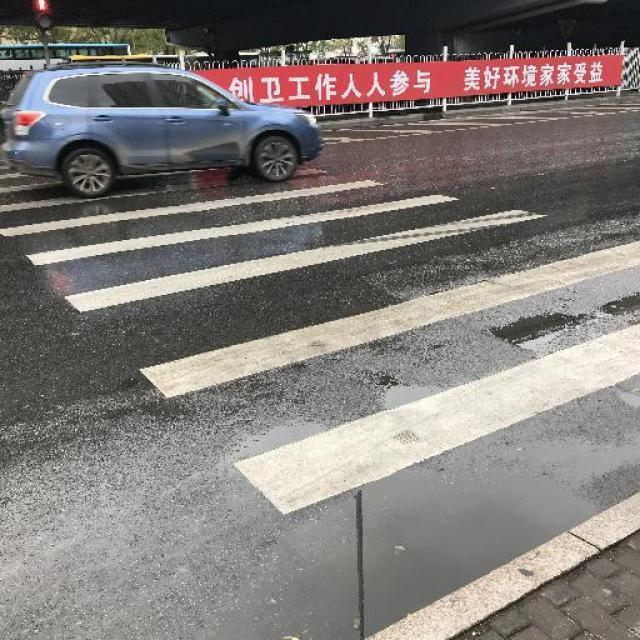crosswalk: (0, 169, 640, 520)
